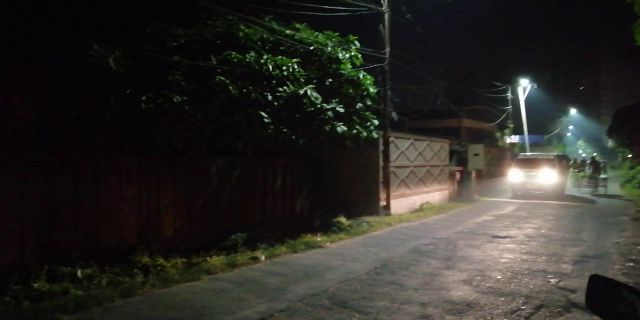Car: (510, 153, 564, 199)
